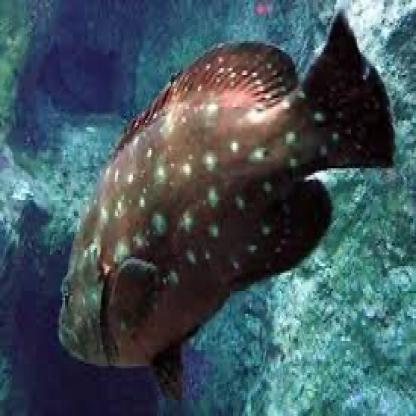Bio: (52, 3, 414, 412)
